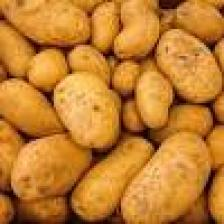Diseased-fungal potato: (52, 71, 123, 152)
Potato: (130, 64, 176, 134), (24, 48, 70, 94)
